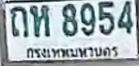4: (118, 1, 133, 34)
5: (98, 1, 115, 35)
8: (62, 3, 78, 36)
9: (80, 3, 95, 36)
A22: (9, 6, 28, 37)
A41: (30, 5, 50, 37)
BKK: (22, 43, 120, 61)
